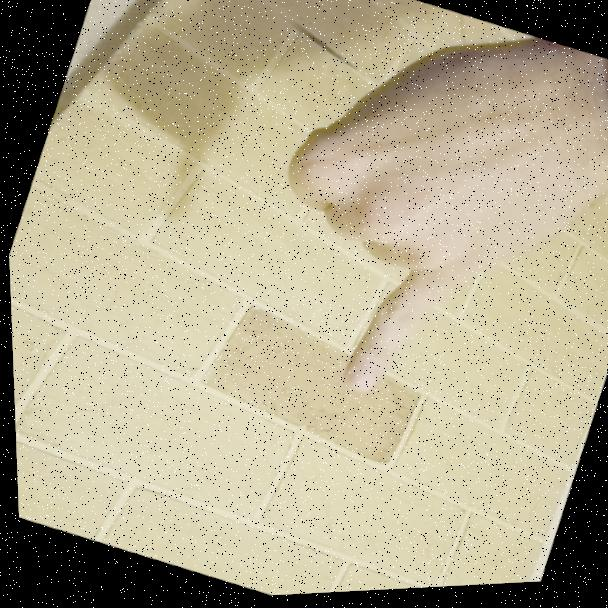five: (203, 0, 608, 453)
